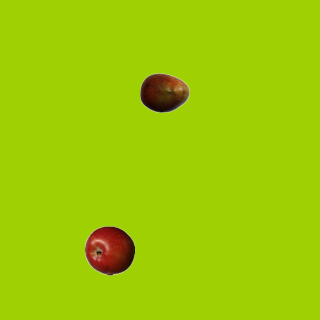Apple Braeburn: (84, 225, 134, 275)
Mango Red: (139, 67, 189, 117)
